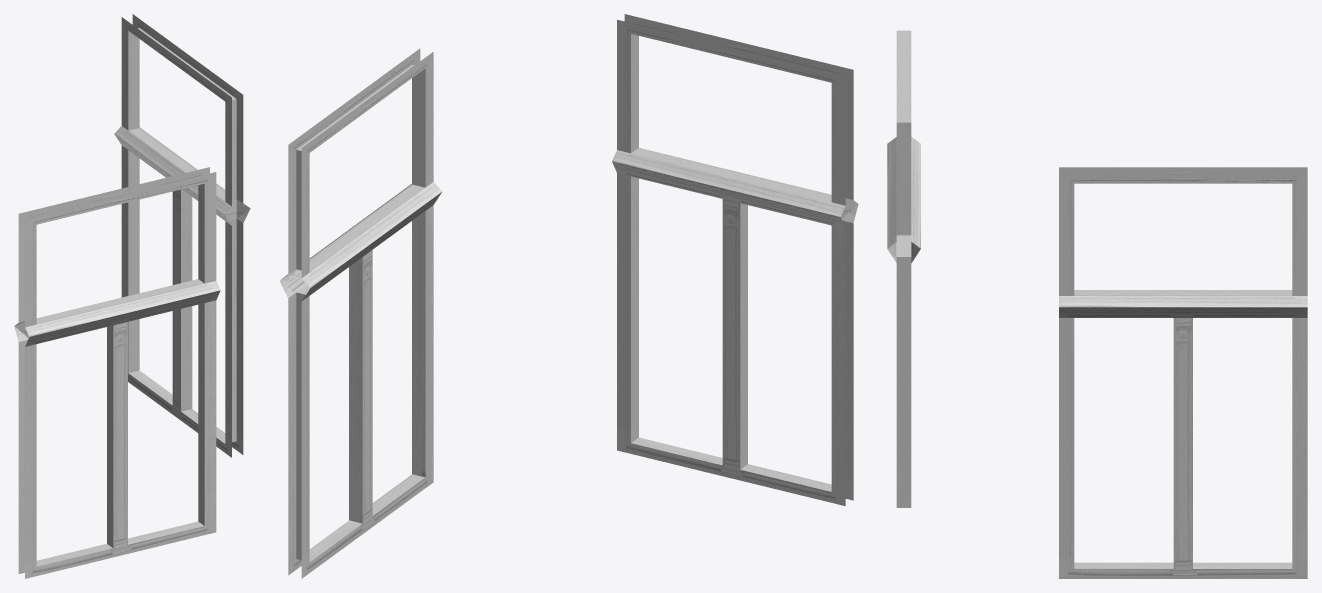
The model's file is WindowCorner1C.fbx.
3 renders of one model, left to right at view 1: azimuth 30°, elevation 25°; view 2: azimuth 150°, elevation 25°; view 3: azimuth 270°, elevation 25°, orthographic. The views are drawn at different scales.
Visible parts, largest first — view 1: WindowCorner1C; view 2: WindowCorner1C; view 3: WindowCorner1C.
Part boxes in pixels (x1,y1,x2,y2): WindowCorner1C: (14,14,250,578); WindowCorner1C: (279,14,858,578); WindowCorner1C: (887,30,1307,578).
Bounding box in the file's own units: 156 × 180 × 169.
